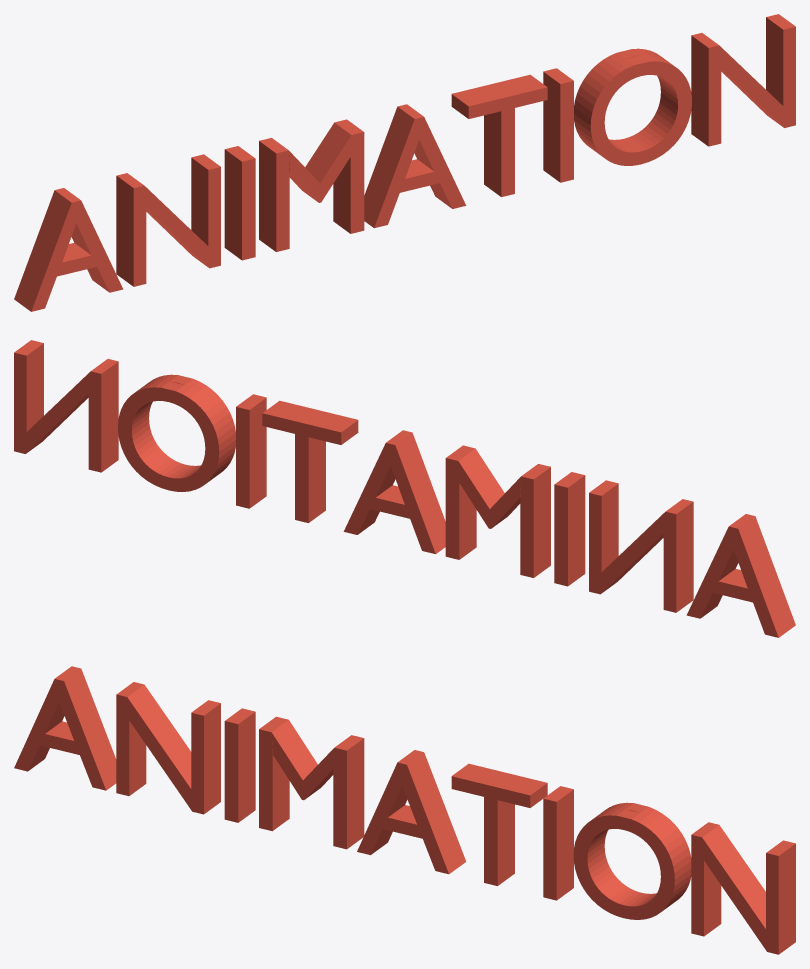
File: letters.glb
3 renders of one model, top to bottom at view 1: azimuth 30°, elevation 25°; view 2: azimuth 150°, elevation 25°; view 3: azimuth 330°, elevation 25°, orthographic.
Visible parts, largest first — view 1: Letter_M, Letter_O, Letter_N_1, Letter_n_2, Letter_A_1, Letter_A_2, Letter_T, Letter_I_1, Letter_I_2; view 2: Letter_M, Letter_O, Letter_N_1, Letter_n_2, Letter_A_1, Letter_A_2, Letter_T, Letter_I_1, Letter_I_2; view 3: Letter_N_1, Letter_n_2, Letter_M, Letter_O, Letter_A_2, Letter_A_1, Letter_T, Letter_I_1, Letter_I_2.
Boxes of the visible parts, bbox=[...] form: Letter_M: bbox=[259, 119, 364, 251]; Letter_O: bbox=[574, 48, 691, 165]; Letter_N_1: bbox=[116, 154, 220, 286]; Letter_n_2: bbox=[691, 14, 795, 146]; Letter_A_1: bbox=[14, 188, 123, 311]; Letter_A_2: bbox=[364, 104, 466, 228]; Letter_T: bbox=[451, 74, 547, 196]; Letter_I_1: bbox=[224, 146, 255, 260]; Letter_I_2: bbox=[543, 68, 573, 182]; Letter_M: bbox=[445, 445, 550, 577]; Letter_O: bbox=[118, 374, 235, 491]; Letter_N_1: bbox=[589, 480, 693, 612]; Letter_n_2: bbox=[14, 340, 118, 472]; Letter_A_1: bbox=[686, 514, 795, 637]; Letter_A_2: bbox=[343, 430, 445, 554]; Letter_T: bbox=[262, 400, 358, 522]; Letter_I_1: bbox=[554, 472, 585, 586]; Letter_I_2: bbox=[236, 394, 266, 508]; Letter_N_1: bbox=[116, 682, 220, 814]; Letter_n_2: bbox=[691, 822, 795, 954]; Letter_M: bbox=[259, 716, 364, 849]; Letter_O: bbox=[573, 802, 691, 919]; Letter_A_2: bbox=[357, 750, 466, 874]; Letter_A_1: bbox=[14, 666, 116, 790]; Letter_T: bbox=[451, 763, 547, 885]; Letter_I_1: bbox=[224, 708, 255, 822]; Letter_I_2: bbox=[543, 786, 573, 900].
Bounding box in the file's own units: 5.53 × 0.7 × 0.2158.
